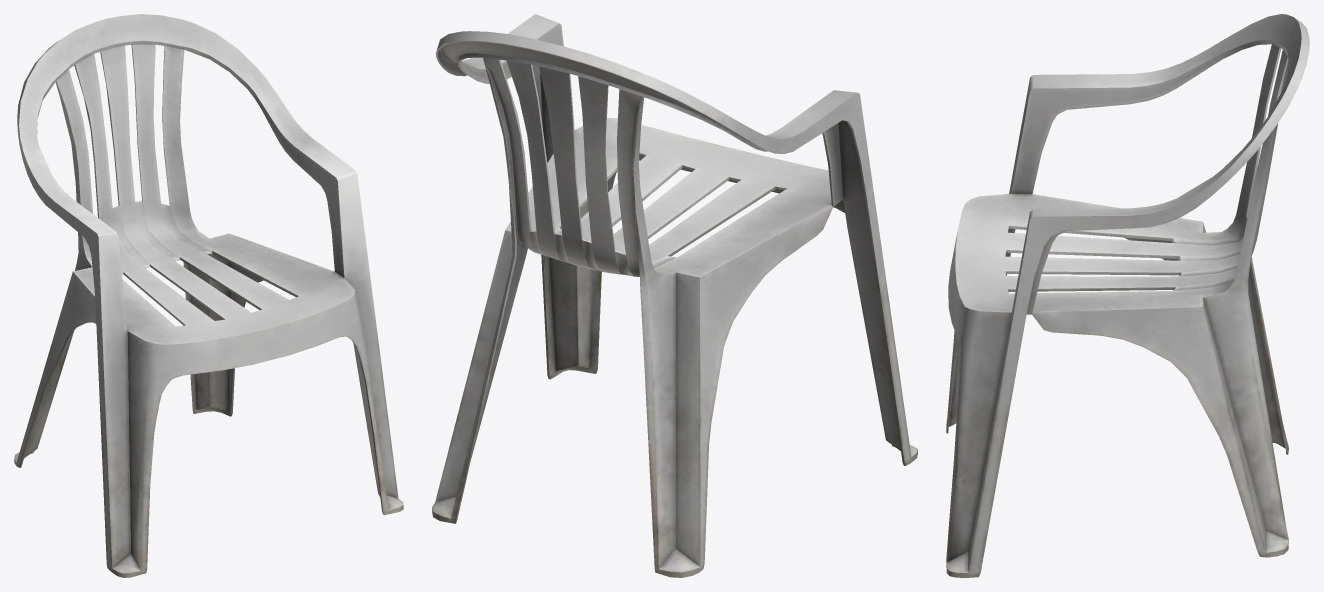
Rendered from plastic_monobloc_chair_01.glb.
3 renders of one model, left to right at view 1: azimuth 30°, elevation 25°; view 2: azimuth 150°, elevation 25°; view 3: azimuth 270°, elevation 25°, orthographic. The views are drawn at different scales.
Visible parts, largest first — view 1: plastic_monobloc_chair_01; view 2: plastic_monobloc_chair_01; view 3: plastic_monobloc_chair_01.
Boxes of the visible parts, x1,y1,x2,y2 form: plastic_monobloc_chair_01: (14,14,403,577); plastic_monobloc_chair_01: (432,14,917,577); plastic_monobloc_chair_01: (946,14,1309,577).
Bounding box in the file's own units: 0.6418 × 0.8798 × 0.6276.
Materials: 1 (1 with a texture image).
